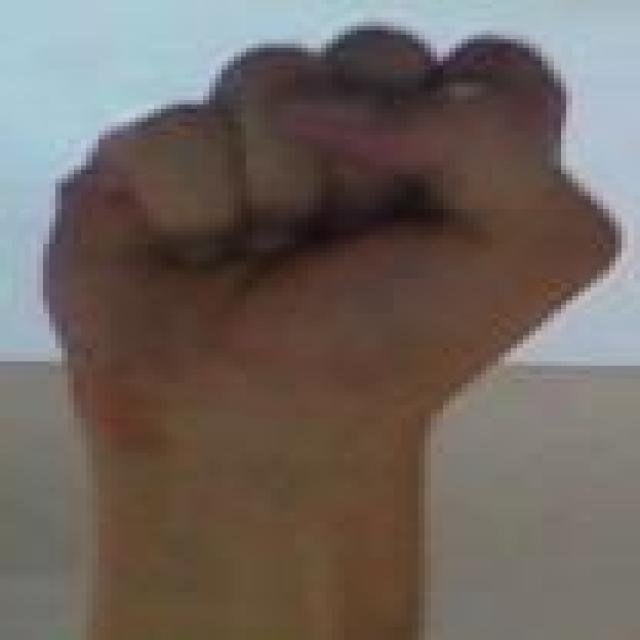S: (15, 7, 626, 423)
